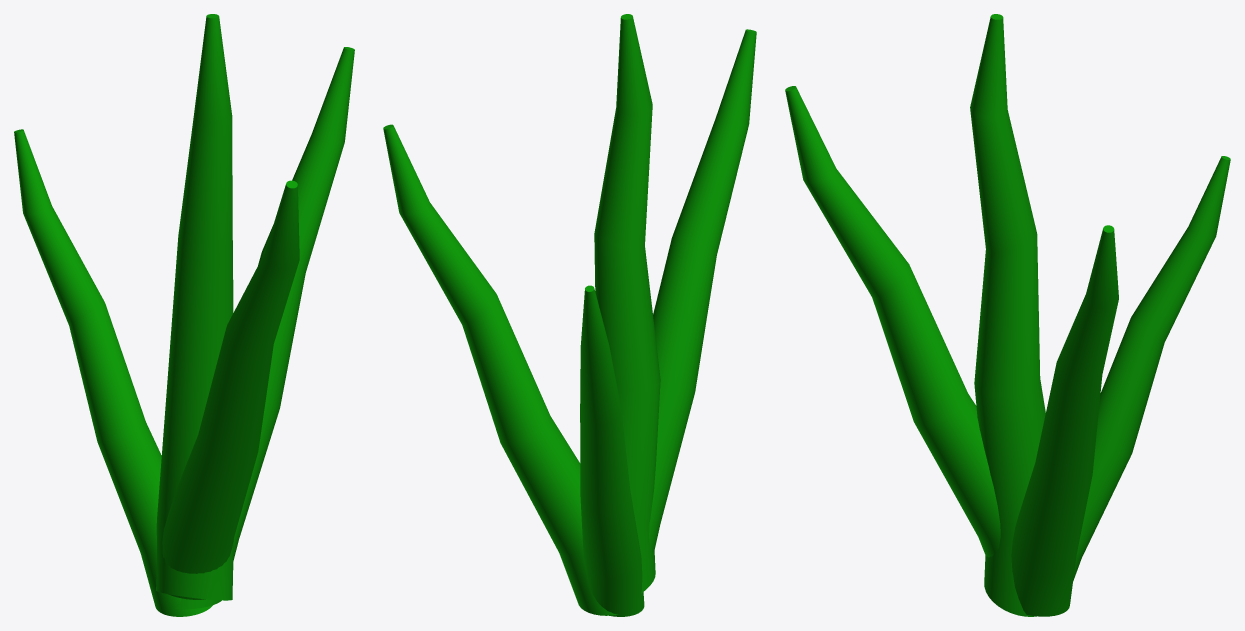
The model's file is Grass.fbx.
The picture shows the model from 3 angles, left to right: view 1: azimuth 30°, elevation 25°; view 2: azimuth 150°, elevation 25°; view 3: azimuth 270°, elevation 25°; orthographic projection. The views are drawn at different scales.
Visible parts, largest first — view 1: Cylinder.003, Cylinder, Cylinder.001, Cylinder.002; view 2: Cylinder.002, Cylinder.003, Cylinder, Cylinder.001; view 3: Cylinder.003, Cylinder, Cylinder.002, Cylinder.001.
Part boxes in pixels (x1=…): Cylinder.003: x1=156, y1=14, x2=233, y2=600; Cylinder: x1=162, y1=180, x2=299, y2=599; Cylinder.001: x1=14, y1=129, x2=212, y2=616; Cylinder.002: x1=174, y1=47, x2=354, y2=609; Cylinder.002: x1=383, y1=124, x2=617, y2=615; Cylinder.003: x1=594, y1=14, x2=660, y2=593; Cylinder: x1=649, y1=29, x2=756, y2=552; Cylinder.001: x1=580, y1=285, x2=644, y2=616; Cylinder.003: x1=970, y1=14, x2=1045, y2=616; Cylinder: x1=785, y1=86, x2=1000, y2=557; Cylinder.002: x1=1011, y1=225, x2=1118, y2=616; Cylinder.001: x1=1073, y1=156, x2=1230, y2=580.
Bounding box in the file's own units: 110 × 224 × 153.
